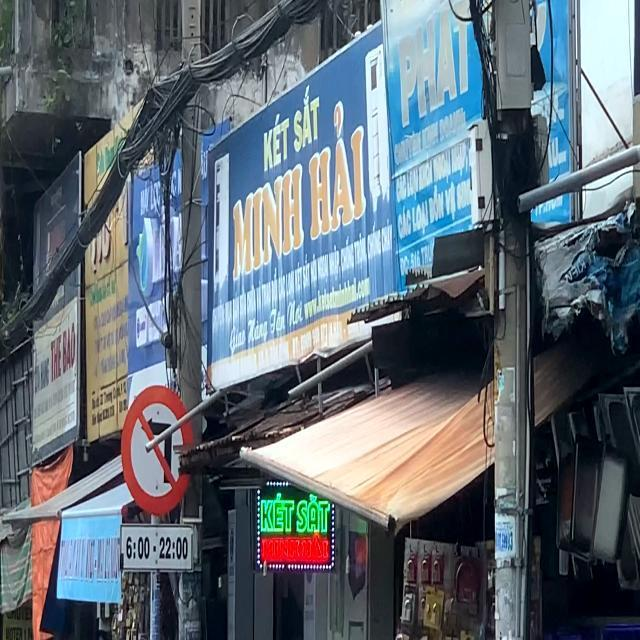123a-cam-re-trai: (121, 385, 192, 515)
